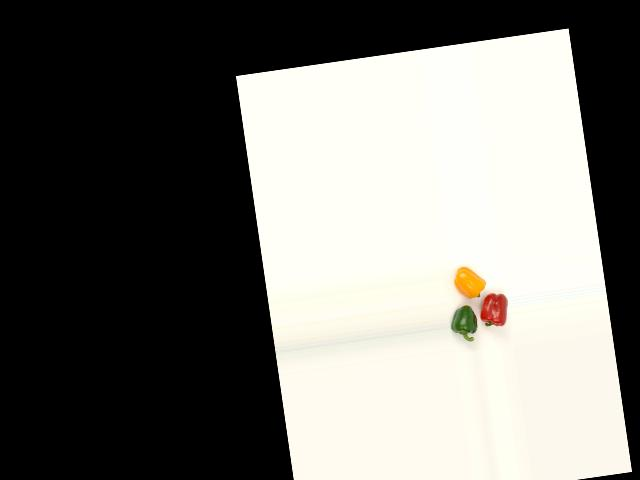bell_pepper: (447, 303, 481, 345)
